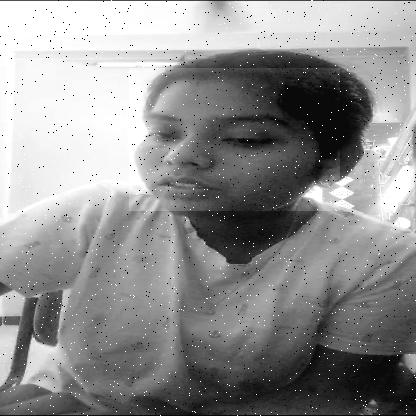Distracted: (129, 68, 340, 211)
